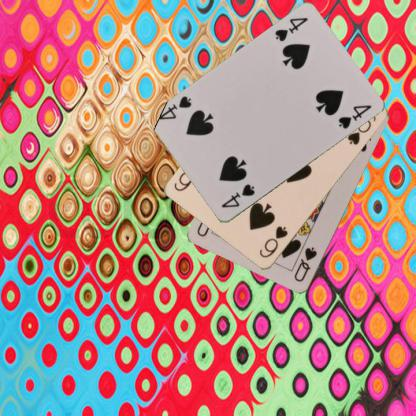4s: (219, 181, 256, 210), (272, 15, 310, 43)
6s: (256, 224, 290, 260)
Qs: (291, 245, 318, 284)
